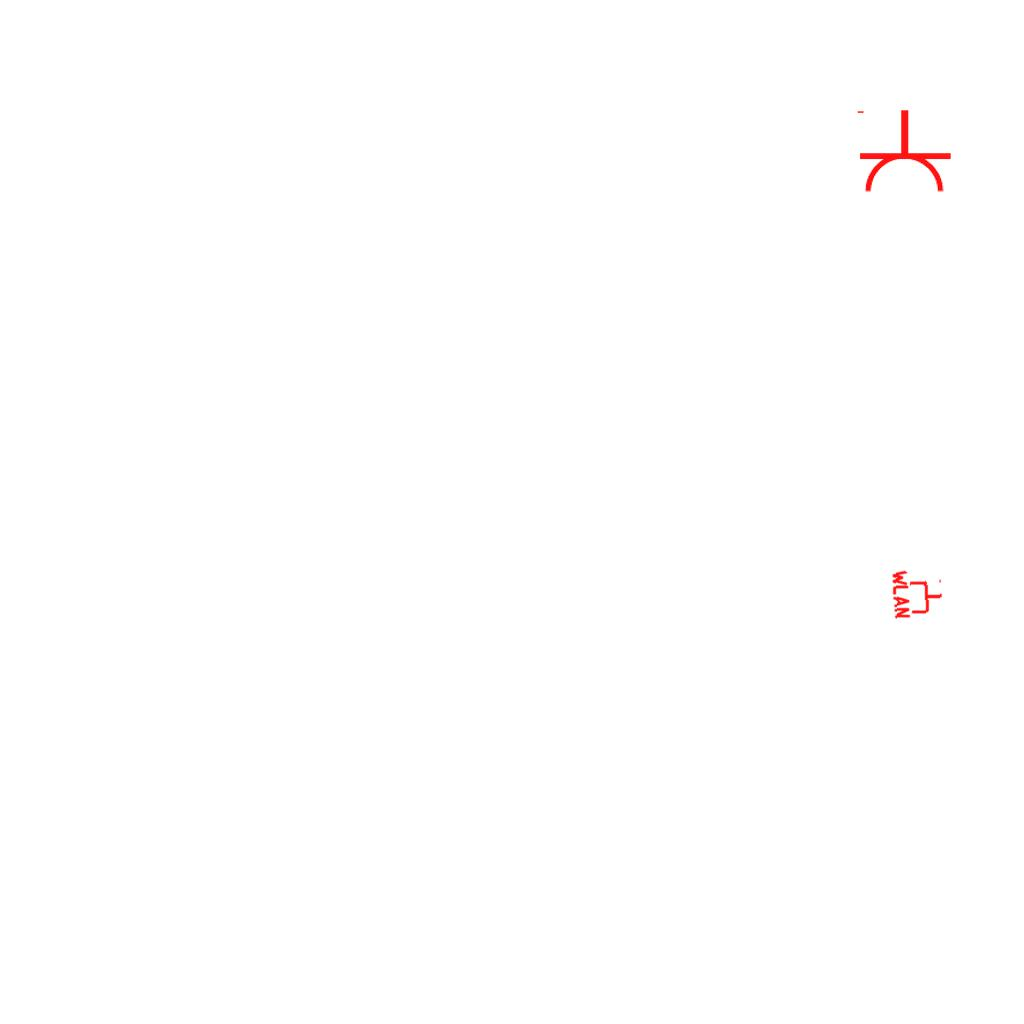Schukosteckdose_einfach: (853, 108, 953, 195)
WLAN: (890, 565, 946, 621)
